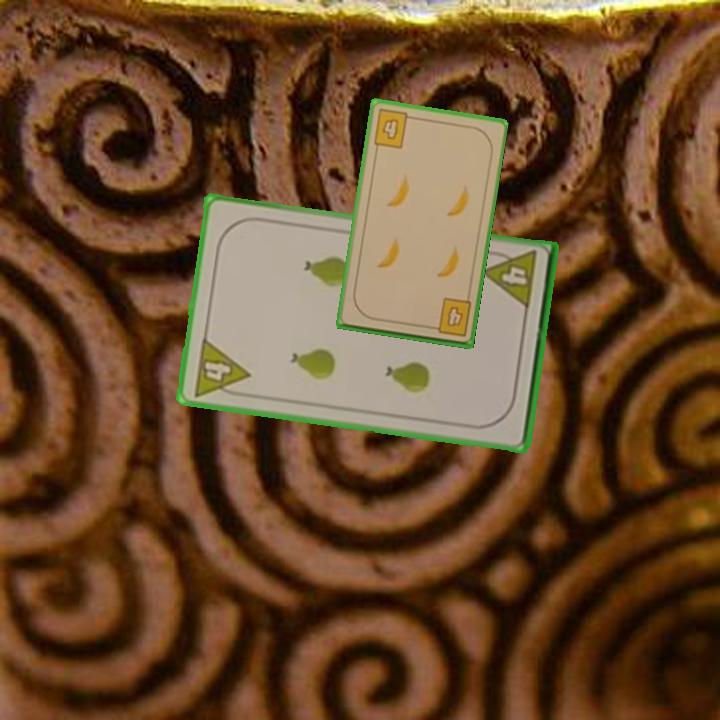4b: (370, 105, 417, 151), (426, 295, 474, 340)
4p: (189, 334, 253, 401), (479, 247, 540, 312)
